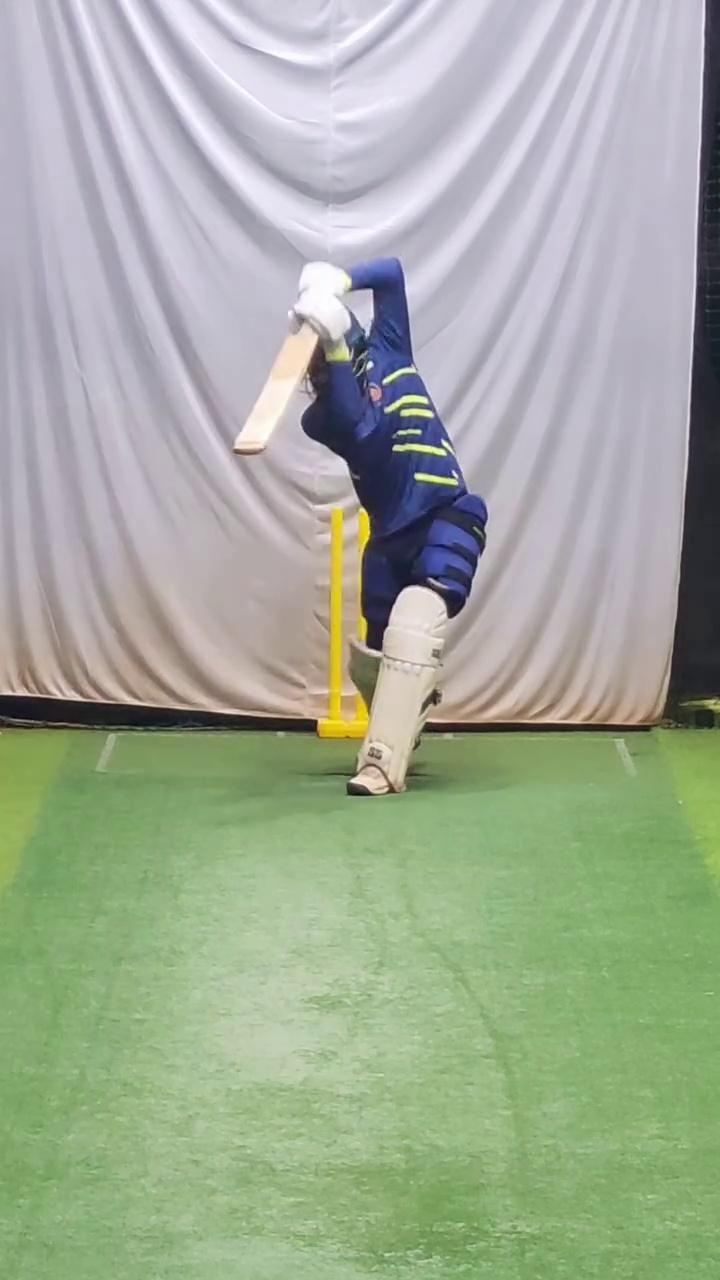bat: (230, 321, 320, 464)
